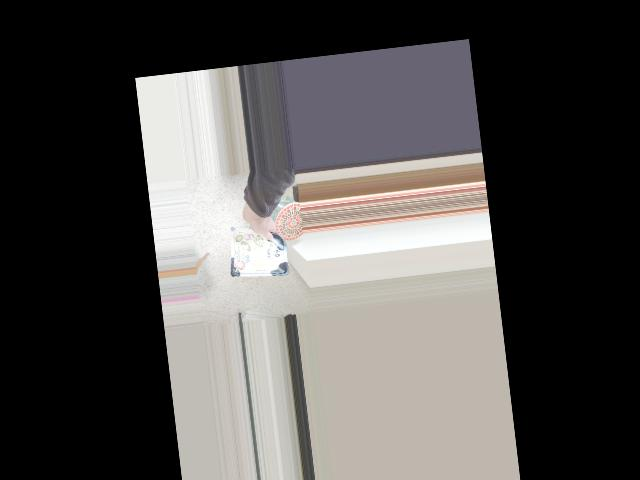cheese: (223, 204, 287, 269)
